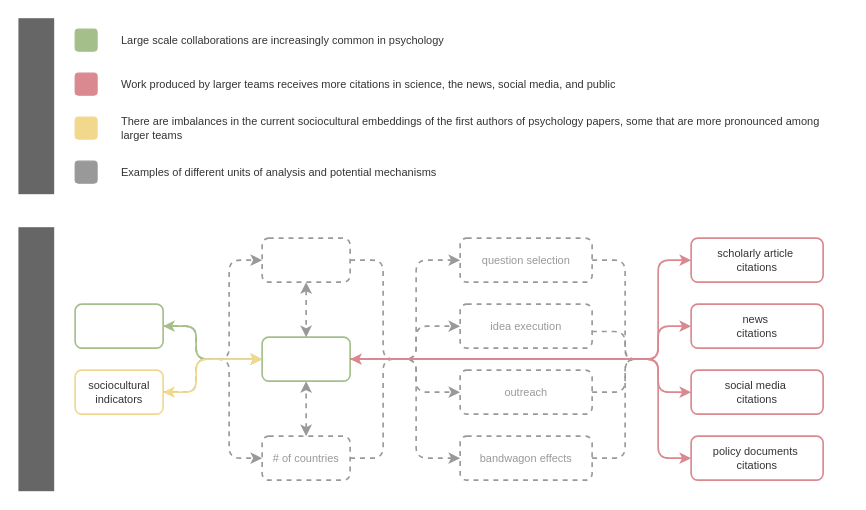
Image size: 866x510. Some labels were removed from this diagram. Each missing label, with the box of its shape:
# of authors: (261, 336, 350, 381)
# of institutions: (261, 237, 350, 282)
Exploratory findings: (18, 18, 54, 194)
Post-hoc framework: (18, 227, 54, 491)
time: (74, 303, 163, 348)
